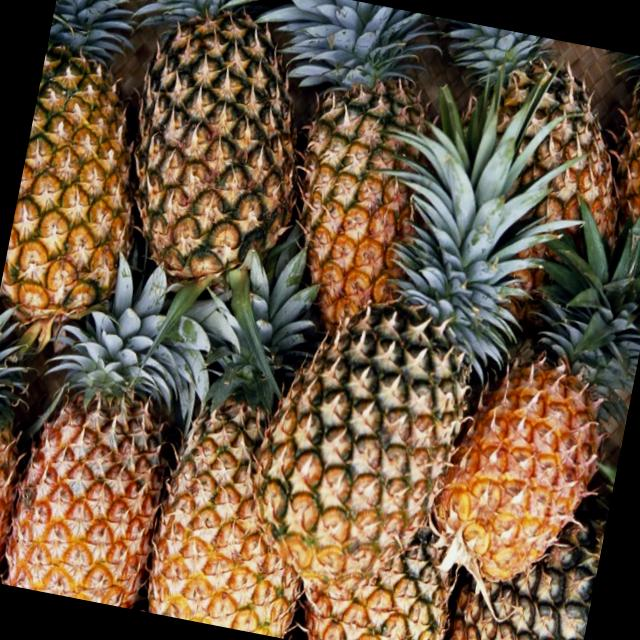pineapple: (211, 273, 500, 640), (102, 0, 335, 307), (446, 48, 640, 334), (0, 323, 187, 610), (267, 56, 452, 346), (0, 41, 167, 344)
